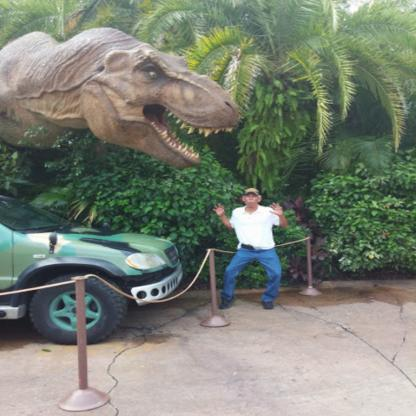Car: (1, 198, 186, 345)
